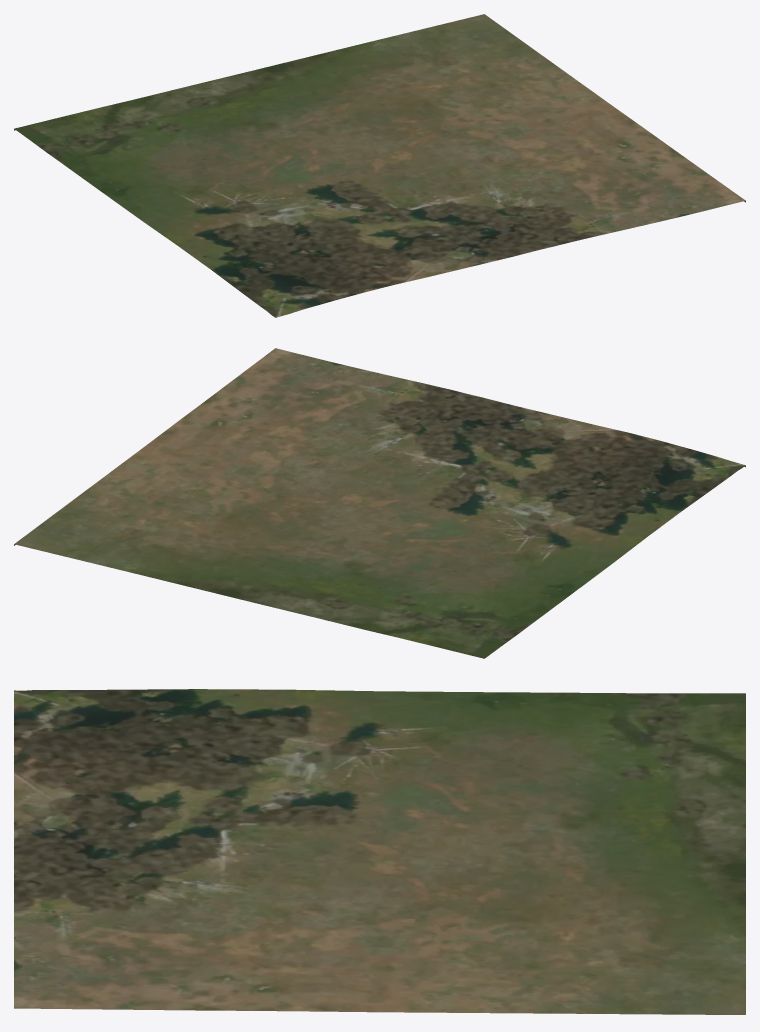
The picture shows the model from 3 angles, top to bottom: view 1: azimuth 30°, elevation 25°; view 2: azimuth 150°, elevation 25°; view 3: azimuth 270°, elevation 25°; orthographic projection. The views are drawn at different scales.
Size of the model in its own units: 250 by 4.24 by 241.
1 material, 1 textured.
